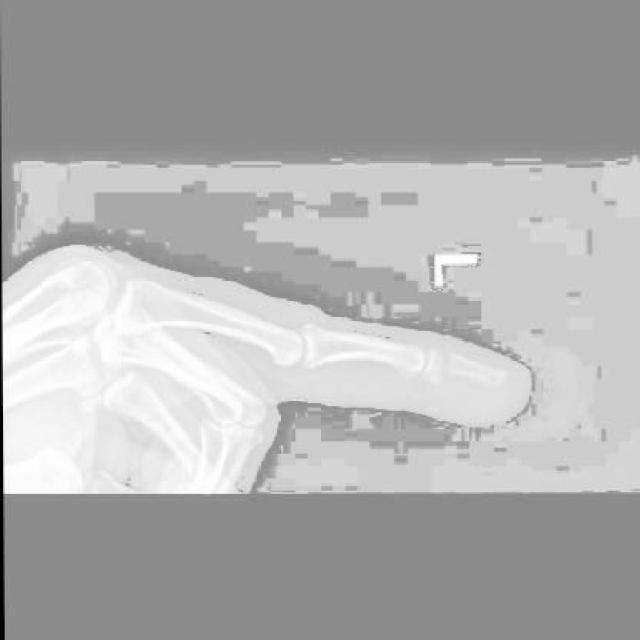Fracture: (423, 350, 460, 388)
